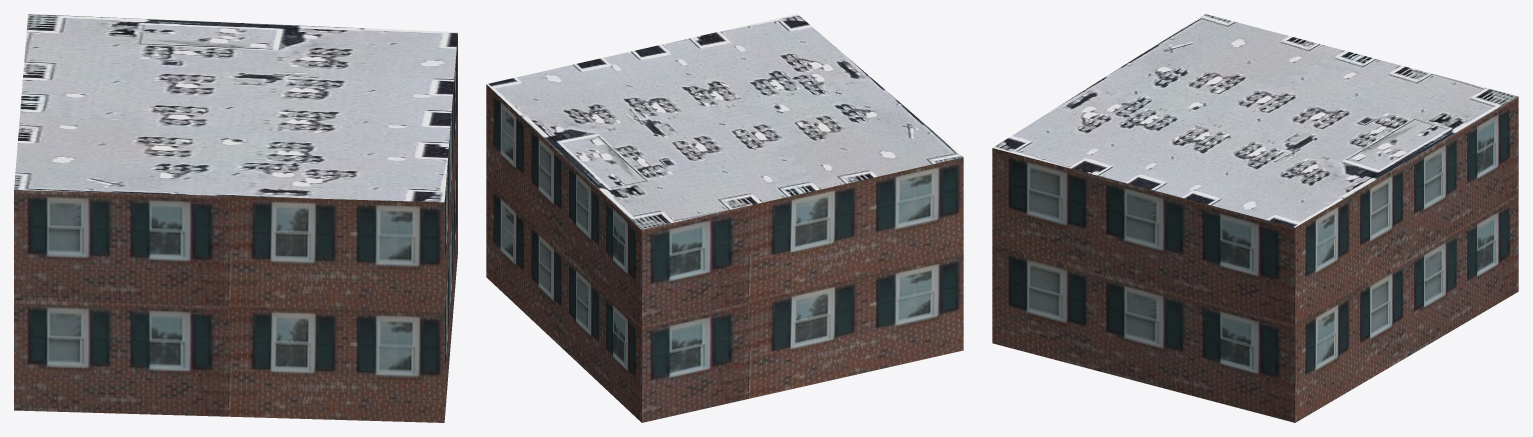
File: ResTex__4290.fbx
The picture shows the model from 3 angles, left to right: view 1: azimuth 30°, elevation 25°; view 2: azimuth 150°, elevation 25°; view 3: azimuth 270°, elevation 25°; orthographic projection. The views are drawn at different scales.
Parts seen in each view (by area): view 1: CityEngineMaterial_14_m, CityEngineMaterial_m; view 2: CityEngineMaterial_14_m, CityEngineMaterial_m; view 3: CityEngineMaterial_14_m, CityEngineMaterial_m.
Part boxes in pixels (x1,y1,x2,y2): CityEngineMaterial_14_m: (14,34,457,422); CityEngineMaterial_m: (14,14,457,202); CityEngineMaterial_14_m: (486,84,963,422); CityEngineMaterial_m: (486,14,962,229); CityEngineMaterial_14_m: (992,96,1518,422); CityEngineMaterial_m: (993,14,1517,227).
Size of the model in its own units: 14.07 by 6 by 14.65.
Materials: 2 (2 with a texture image).
